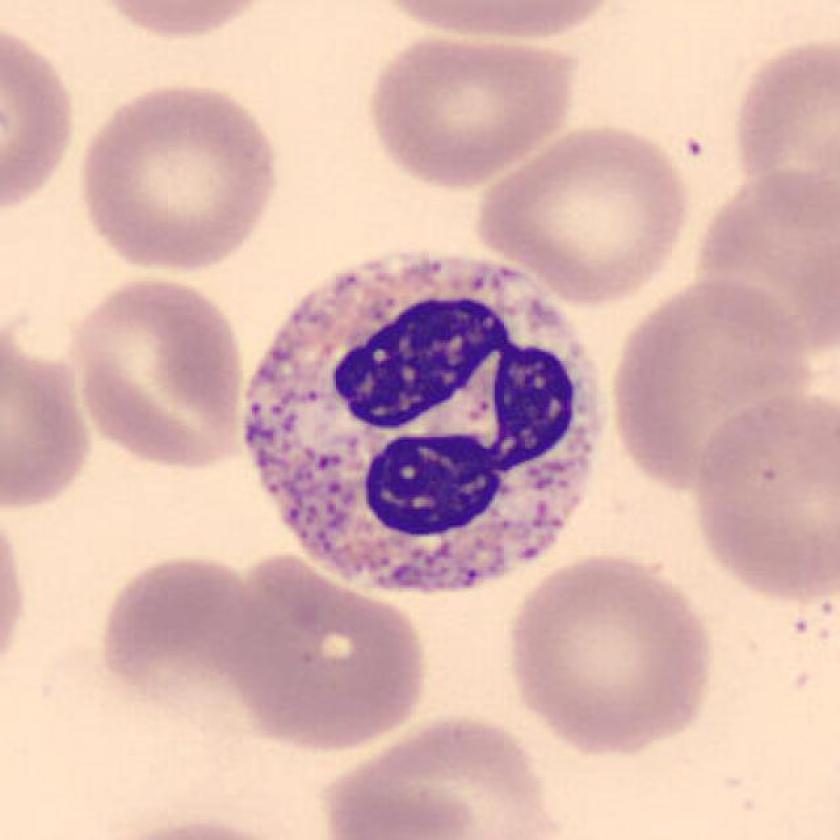neutrophil: (249, 253, 597, 593)
